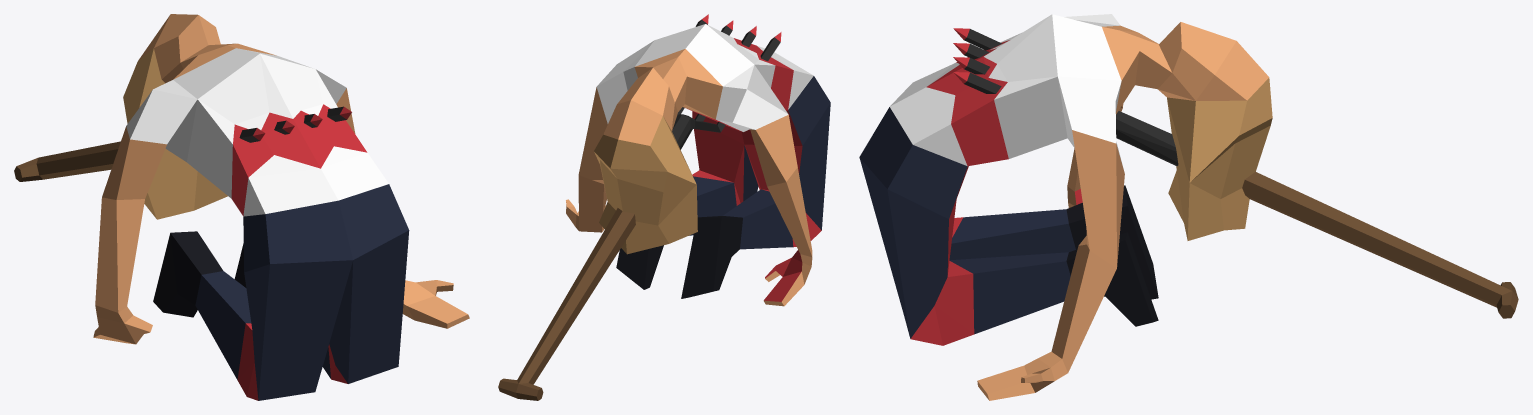
Rendered from apocalypse-woman-casual-pants-dead-a.glb.
The picture shows the model from 3 angles, left to right: view 1: azimuth 30°, elevation 25°; view 2: azimuth 150°, elevation 25°; view 3: azimuth 270°, elevation 25°; orthographic projection. The views are drawn at different scales.
Visible parts, largest first — view 1: woman-casual-pants-dead-a; view 2: woman-casual-pants-dead-a; view 3: woman-casual-pants-dead-a.
Boxes of the visible parts, box(x1,y1,x2,y2) form: woman-casual-pants-dead-a: box(14, 14, 469, 400); woman-casual-pants-dead-a: box(498, 14, 830, 400); woman-casual-pants-dead-a: box(859, 14, 1518, 400).
Bounding box in the file's own units: 0.8361 × 0.7086 × 1.41.
